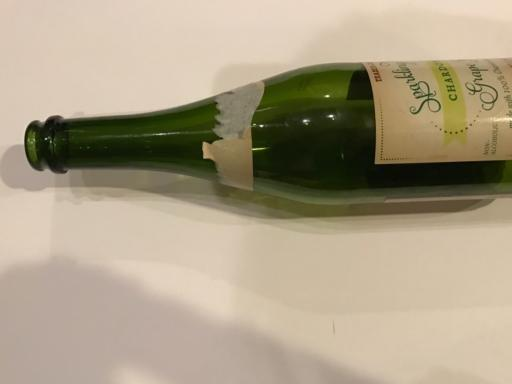botolkaca: (24, 58, 512, 196)
